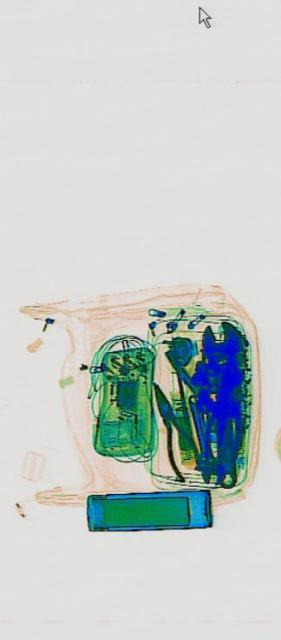Pliers: (142, 364, 198, 488)
Wrench: (199, 317, 247, 491)
